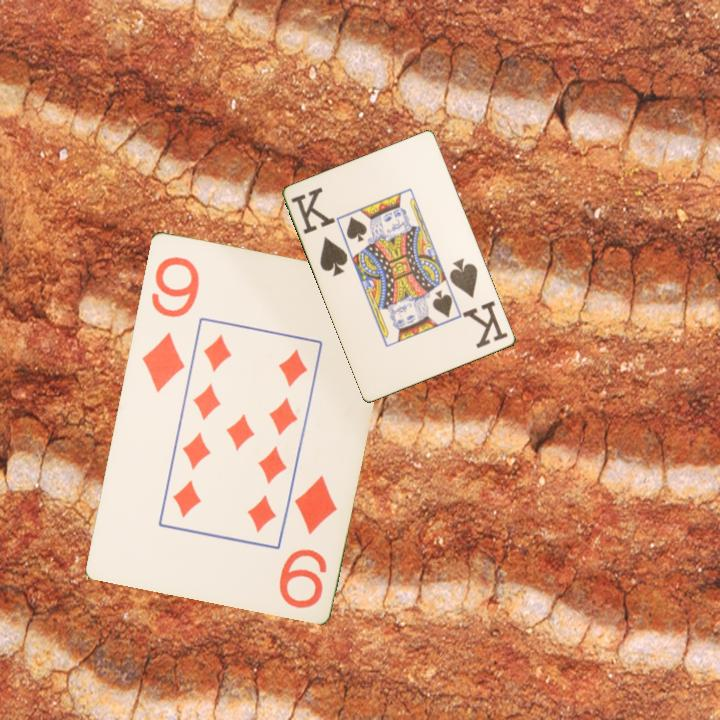9d: (137, 252, 202, 395), (275, 471, 340, 611)
Ks: (446, 254, 511, 351), (288, 184, 351, 280)
